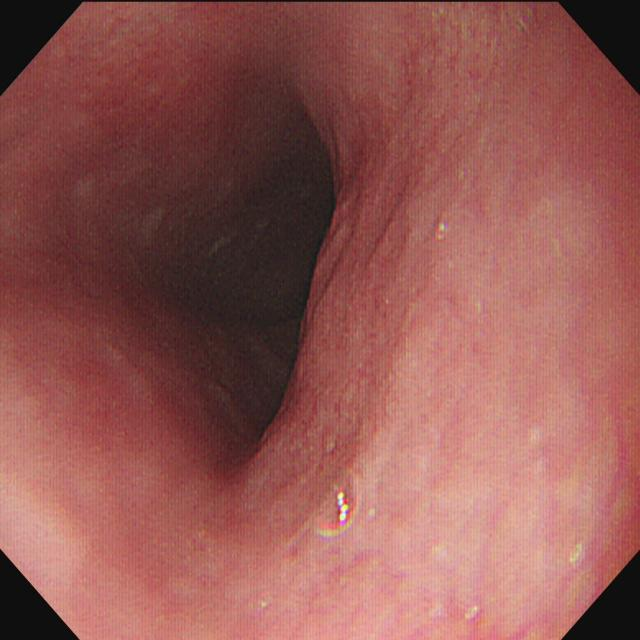E: (183, 162, 339, 376)
T: (313, 470, 361, 542)
